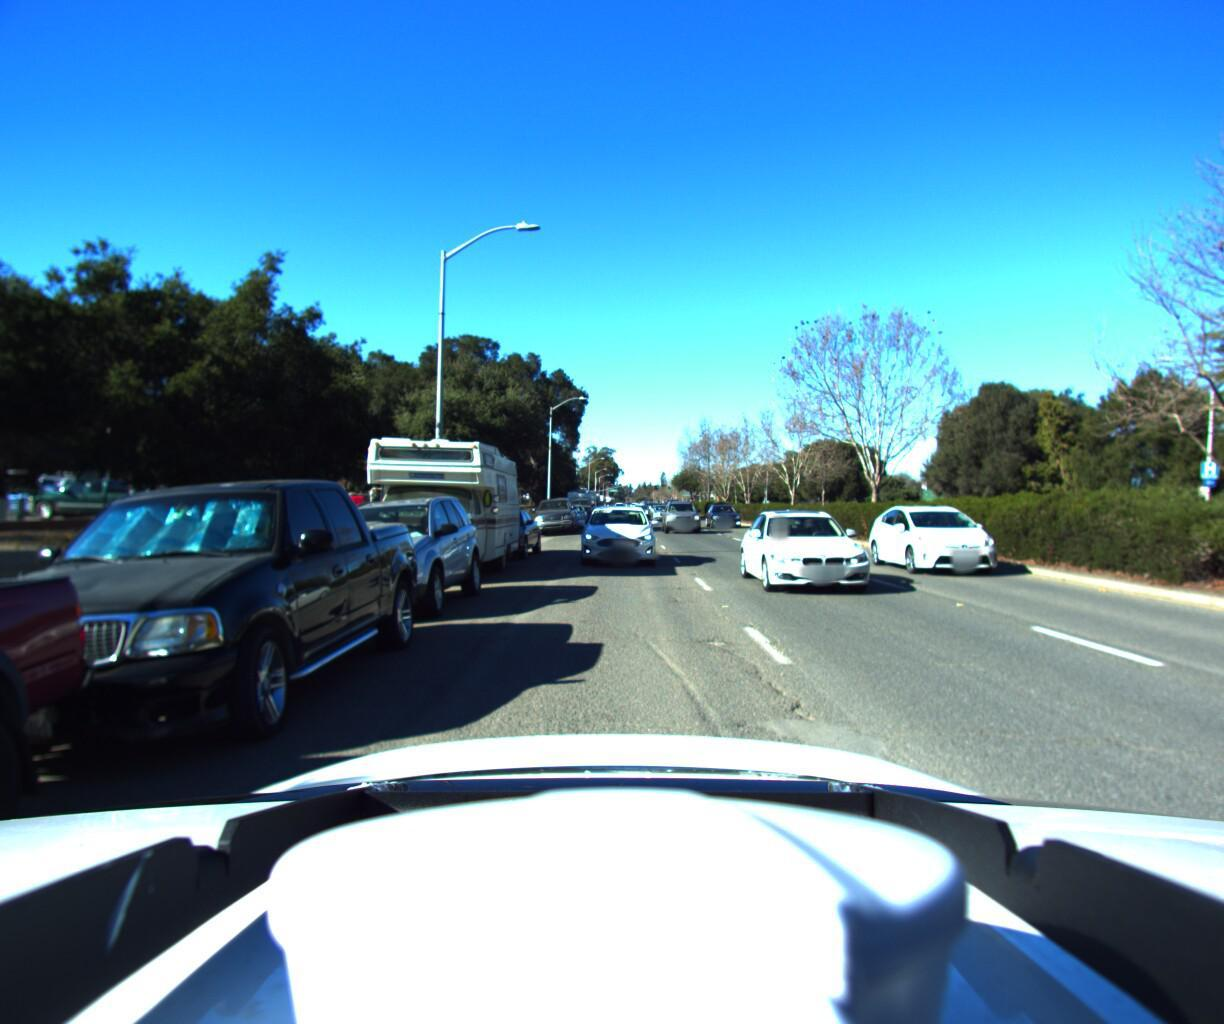car: (277, 485, 483, 603), (742, 500, 902, 606), (876, 494, 1055, 586), (449, 505, 540, 561), (577, 498, 653, 565), (526, 494, 572, 535), (658, 496, 703, 535), (703, 502, 744, 529)
other_vehicle: (336, 425, 516, 586), (561, 487, 594, 521)
